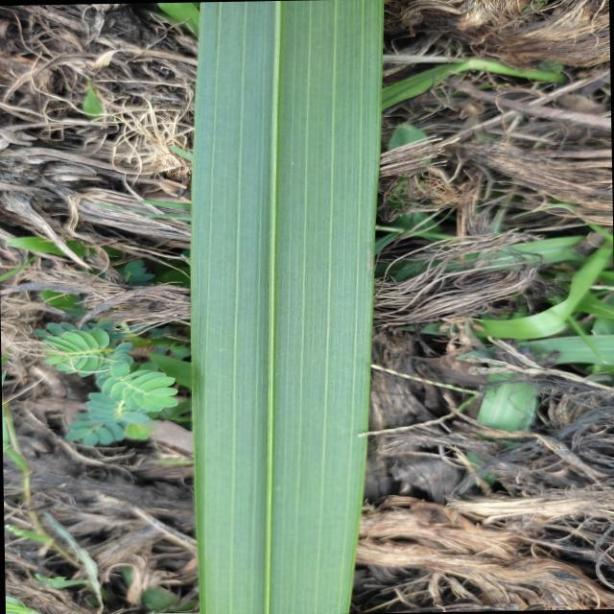Healthy: (189, 0, 388, 614)
